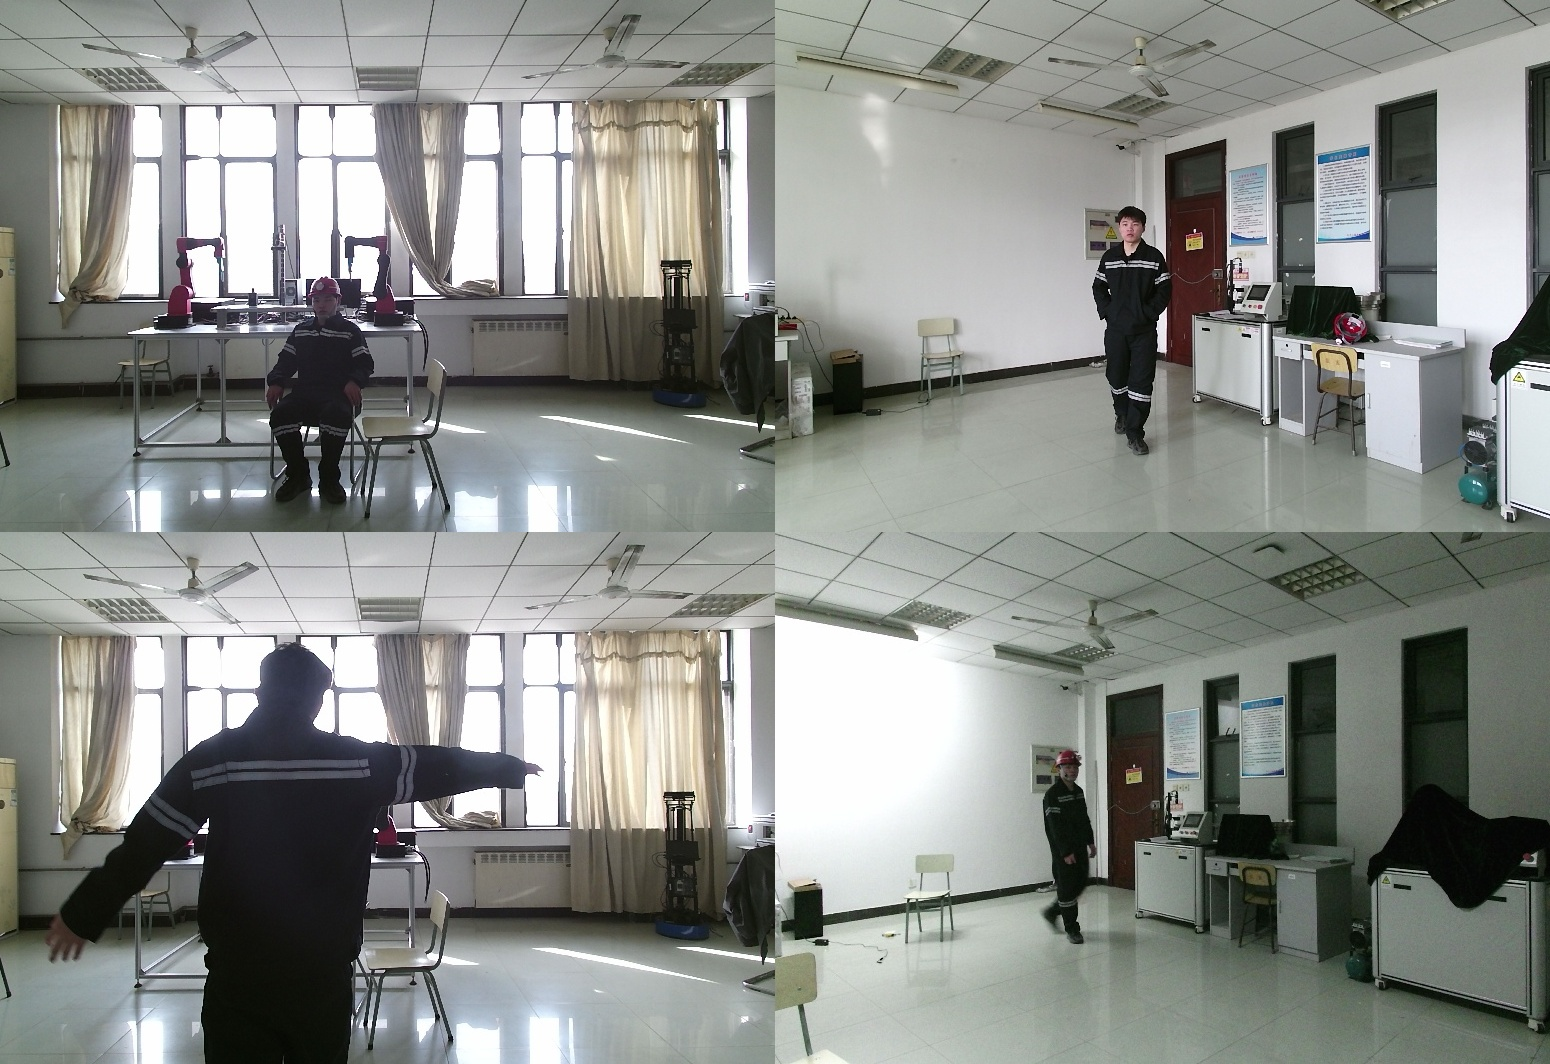person: (50, 645, 543, 1064), (268, 278, 380, 504), (1090, 207, 1177, 454), (1032, 752, 1093, 951)
